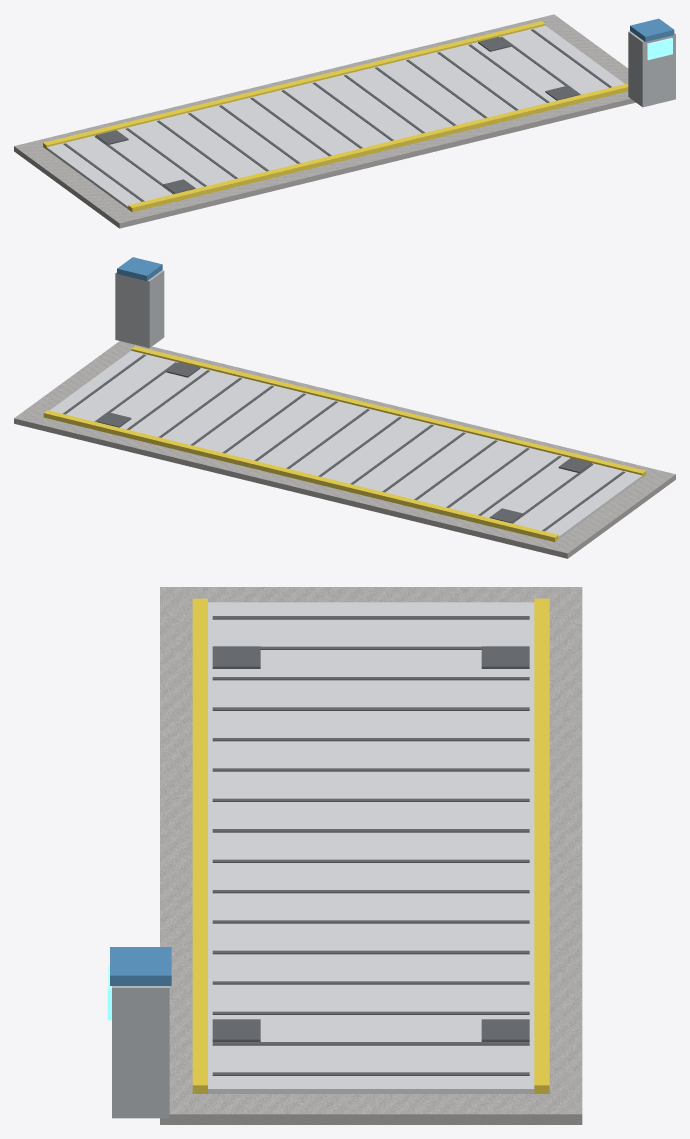
File: ferry-terminal-and-harbour-crossing-ferry-terminal-and-b74868ad__35642.glb
3 views of the same model, one above another, from view 1: azimuth 30°, elevation 25°; view 2: azimuth 150°, elevation 25°; view 3: azimuth 270°, elevation 25° (orthographic). The views are drawn at different scales.
Parts seen in each view (by area): view 1: ferry-terminal-and-harbour-crossing-weighbridge-plate; view 2: ferry-terminal-and-harbour-crossing-weighbridge-plate; view 3: ferry-terminal-and-harbour-crossing-weighbridge-plate.
Part boxes in pixels (x1,y1,x2,y2): ferry-terminal-and-harbour-crossing-weighbridge-plate: (14, 14, 675, 228); ferry-terminal-and-harbour-crossing-weighbridge-plate: (14, 257, 675, 558); ferry-terminal-and-harbour-crossing-weighbridge-plate: (107, 587, 582, 1124).
Size of the model in its own units: 13.1 by 1.74 by 4.94.
Materials: 7 (1 with a texture image).
